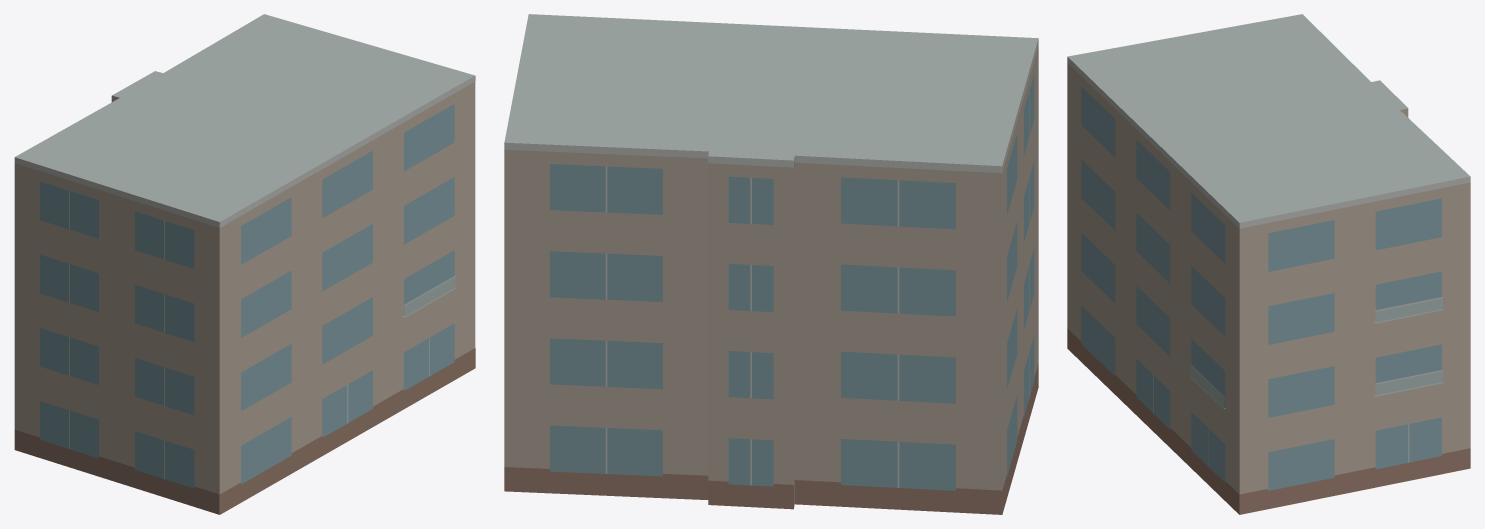
Rendered from survey-upis-32737595.glb.
The picture shows the model from 3 angles, left to right: view 1: azimuth 30°, elevation 25°; view 2: azimuth 150°, elevation 25°; view 3: azimuth 270°, elevation 25°; orthographic projection. The views are drawn at different scales.
Visible parts, largest first — view 1: survey-upis-32737595.tmp; view 2: survey-upis-32737595.tmp; view 3: survey-upis-32737595.tmp.
Boxes of the visible parts, x1,y1,x2,y2 form: survey-upis-32737595.tmp: (14, 14, 475, 514); survey-upis-32737595.tmp: (504, 14, 1038, 514); survey-upis-32737595.tmp: (1067, 14, 1470, 514).
Size of the model in its own units: 18.73 by 12.2 by 15.28.
